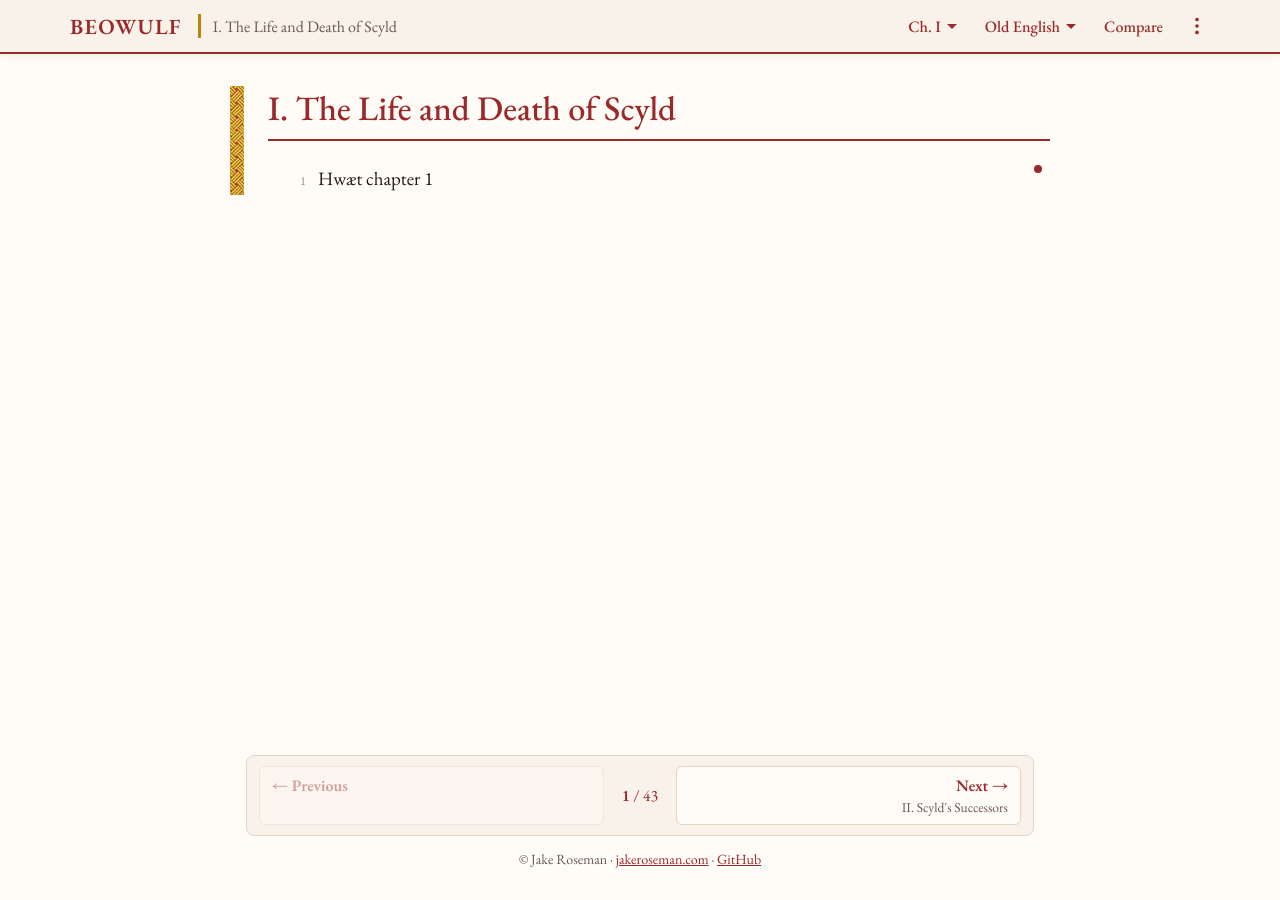
Test: opens marginal note popover and settings drawer
The width and height of the screenshot is (1280, 900).
Expected: the text "Hwæt chapter 1" is shown, [318,166,433,191]
Click the button named "Marginal note 1". click: coordinates (1038, 169)
box: [1032,163,1044,175]
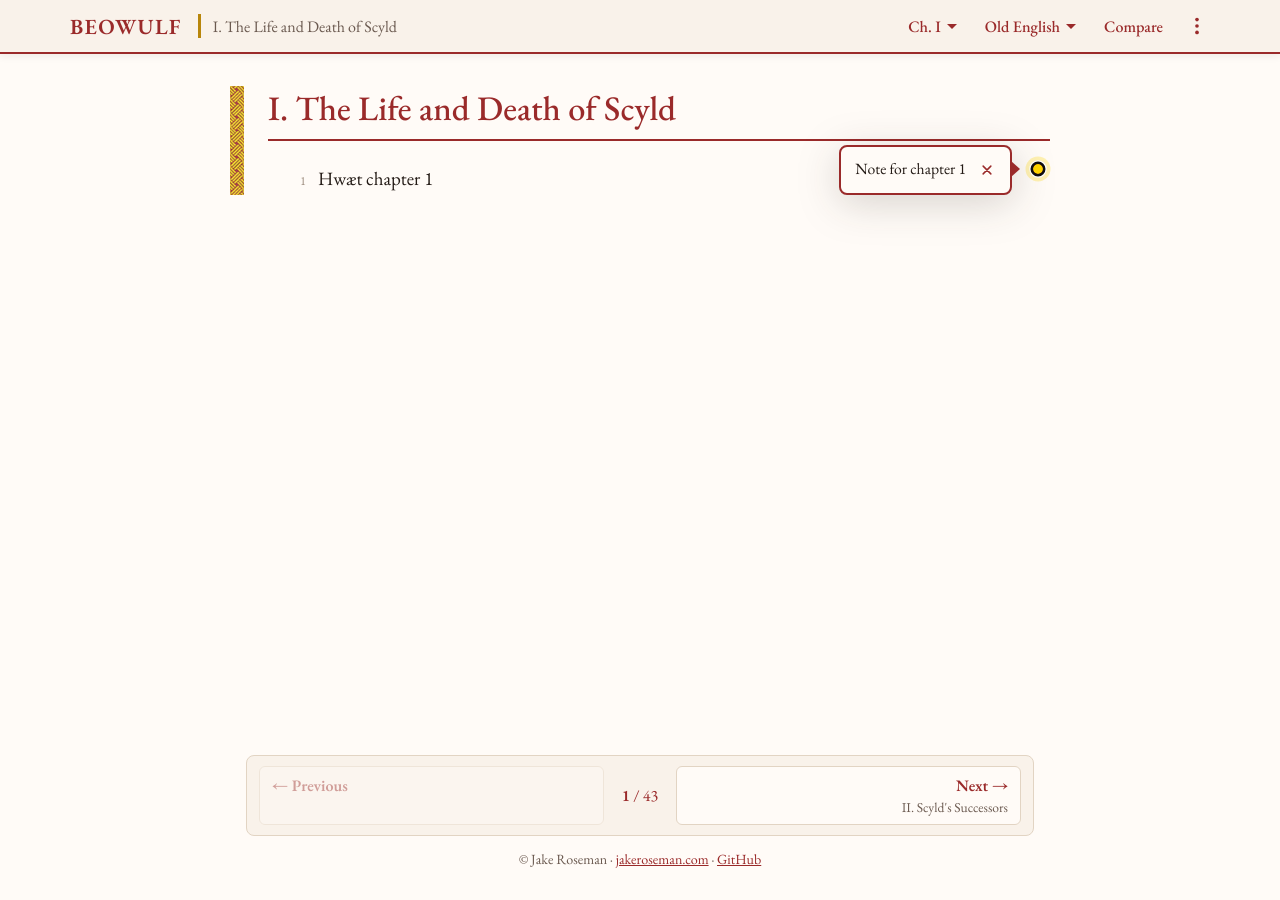
Result: the dialog named "Marginal gloss" is shown at [839,145,1020,195]
Result: the text "Note for chapter 1" is shown at [855,157,966,180]
Click the button named "Reader settings and sources". click: coordinates (1197, 26)
box: [1180,9,1214,43]
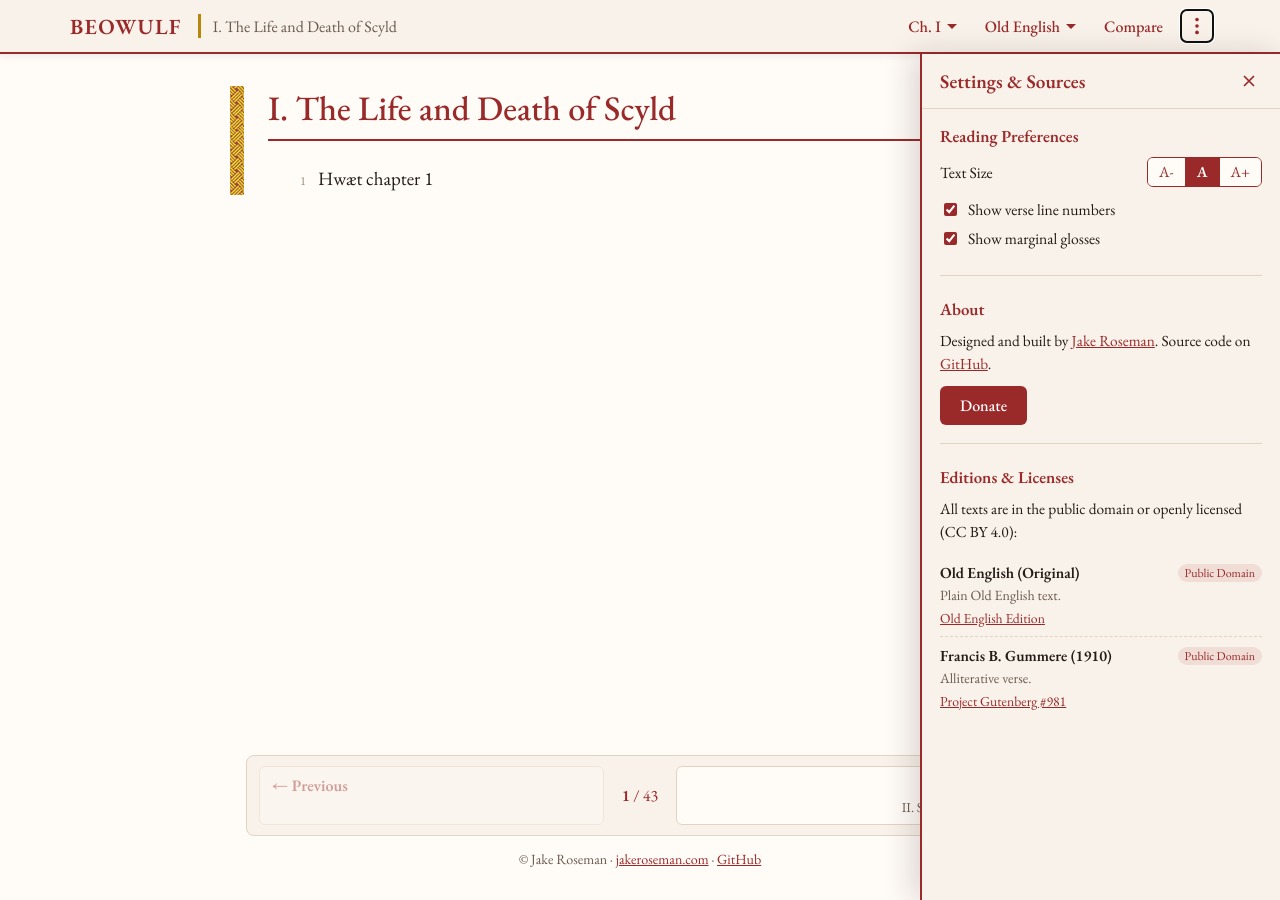
Result: the heading "Settings & Sources" is shown at [940,68,1085,94]
